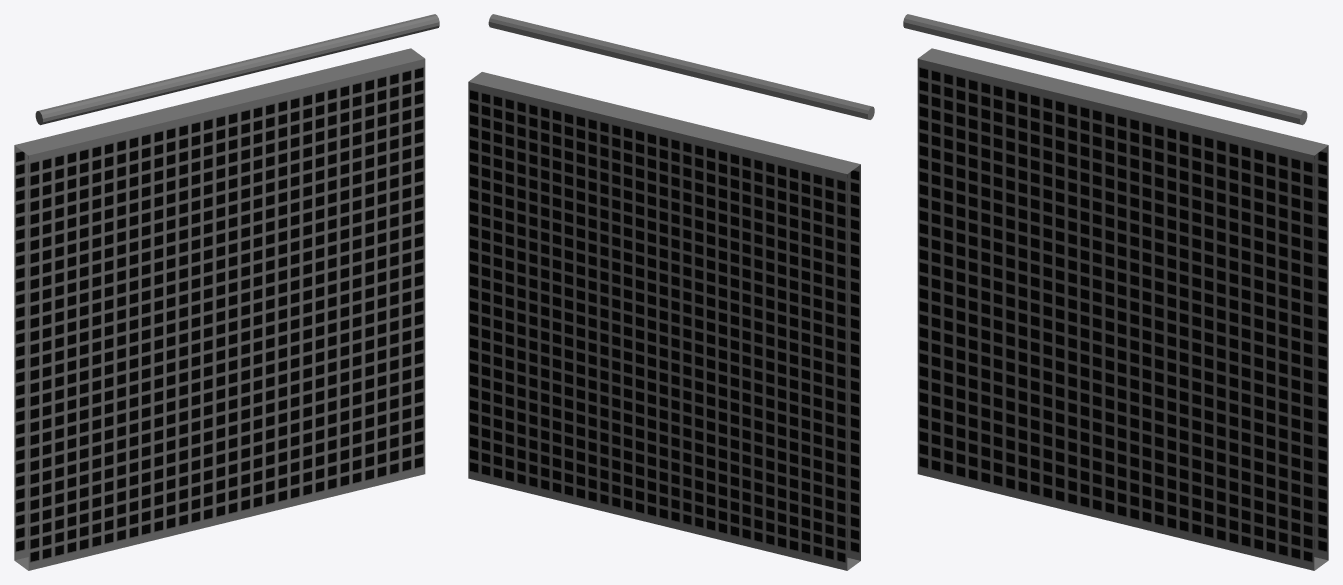
File: nyc_subway_platform_barrier_1b.obj
3 views of the same model, side by side, from view 1: azimuth 30°, elevation 25°; view 2: azimuth 150°, elevation 25°; view 3: azimuth 330°, elevation 25° (orthographic). The views are drawn at different scales.
Parts seen in each view (by area): view 1: cube, cylinder; view 2: cube, cylinder; view 3: cube, cylinder.
Boxes of the visible parts, <box> form: cube: <box>14,48,425,570</box>; cylinder: <box>35,14,439,125</box>; cube: <box>468,72,860,570</box>; cylinder: <box>488,14,874,119</box>; cube: <box>917,48,1328,570</box>; cylinder: <box>903,14,1307,125</box>.
Size of the model in its own units: 1 by 1.12 by 0.125.
1 material, 1 textured.
